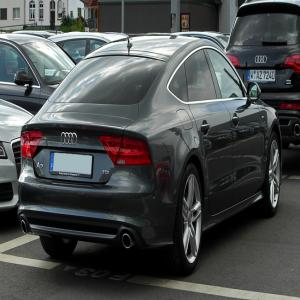Vehicle-registration-plate: (50, 154, 95, 180), (248, 70, 276, 82)
